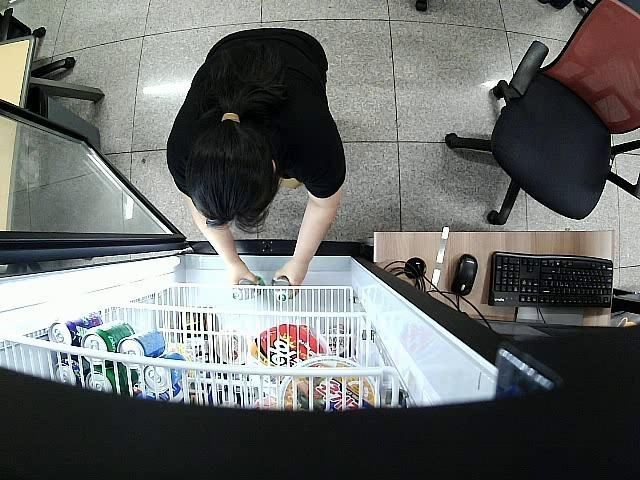18_trevi: (229, 278, 260, 305), (266, 278, 290, 304)
